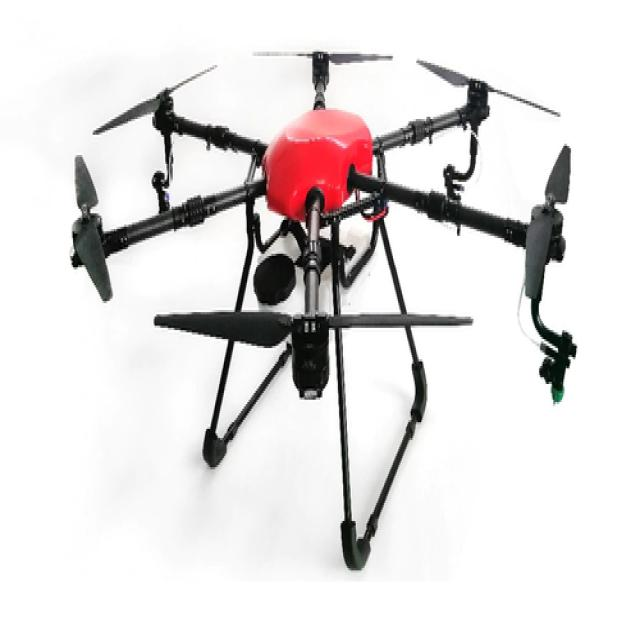drone: (34, 23, 625, 545)
